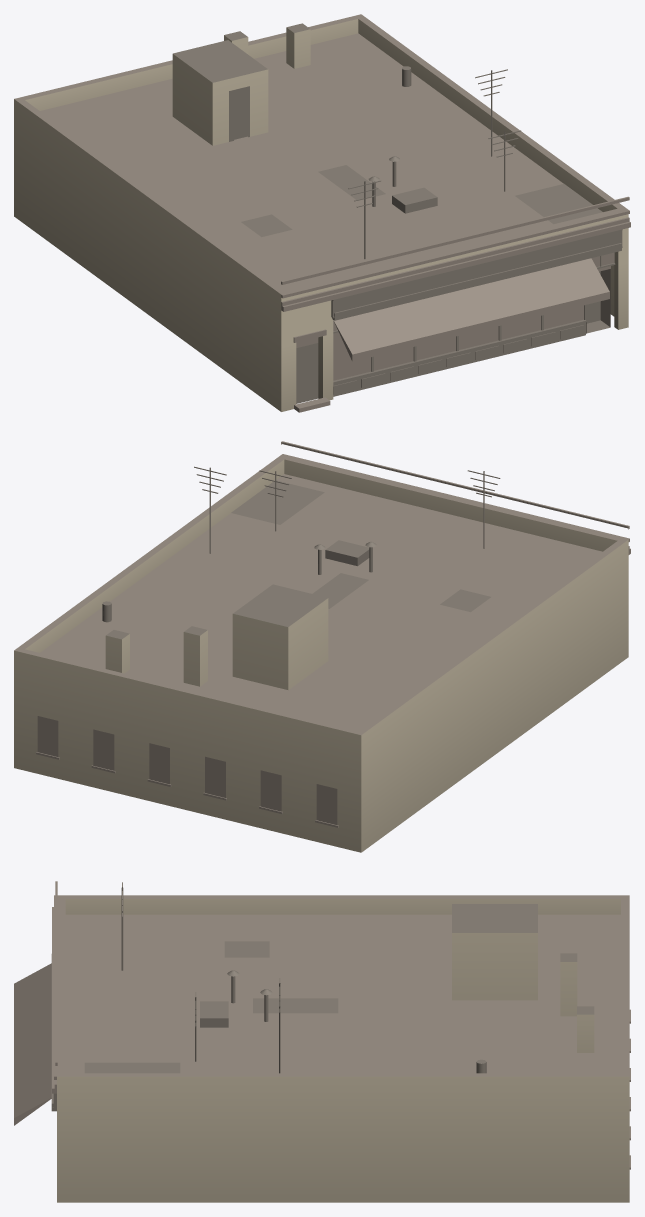
File: taxpayer_a.glb
3 renders of one model, top to bottom at view 1: azimuth 30°, elevation 25°; view 2: azimuth 150°, elevation 25°; view 3: azimuth 270°, elevation 25°, orthographic. The views are drawn at different scales.
Parts seen in each view (by area): view 1: taxpayer_a; view 2: taxpayer_a; view 3: taxpayer_a.
Part boxes in pixels (<box>): taxpayer_a: <box>14,14,630,412</box>; taxpayer_a: <box>14,441,630,852</box>; taxpayer_a: <box>14,881,630,1202</box>.
Bounding box in the file's own units: 15 × 7.79 × 21.55.
